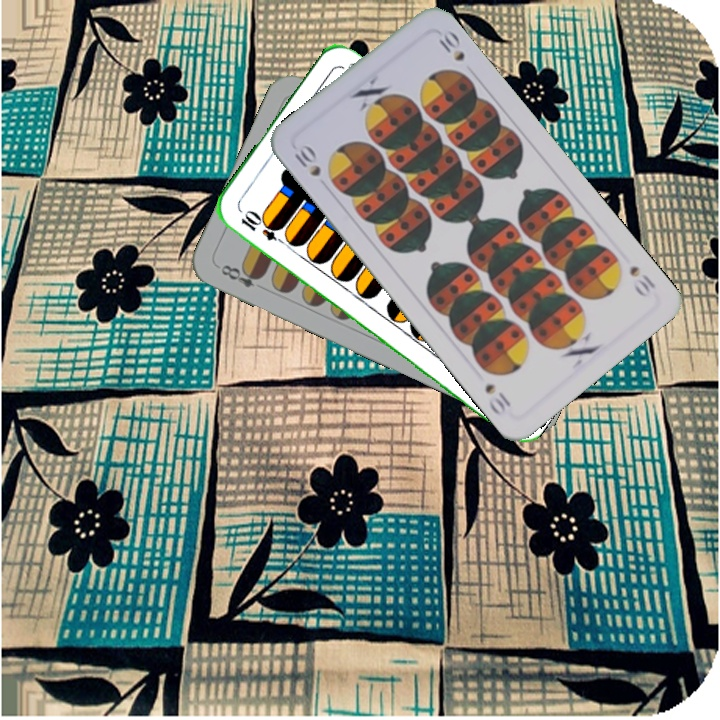E10: (236, 207, 290, 248)
E8: (216, 260, 266, 291)
S10: (625, 261, 659, 300), (290, 143, 324, 180)
